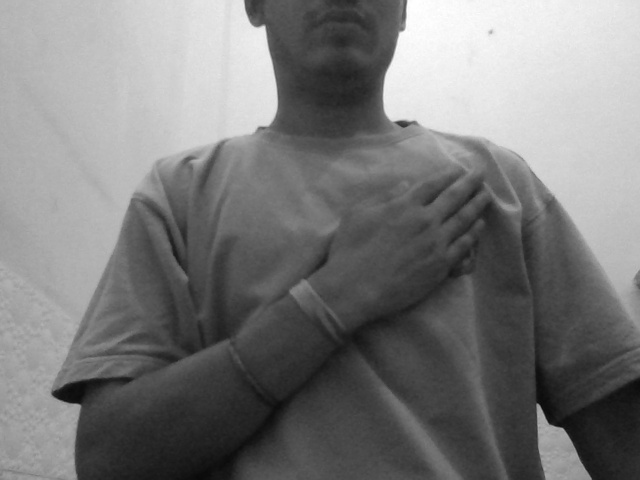Sorry: (282, 155, 515, 324)
